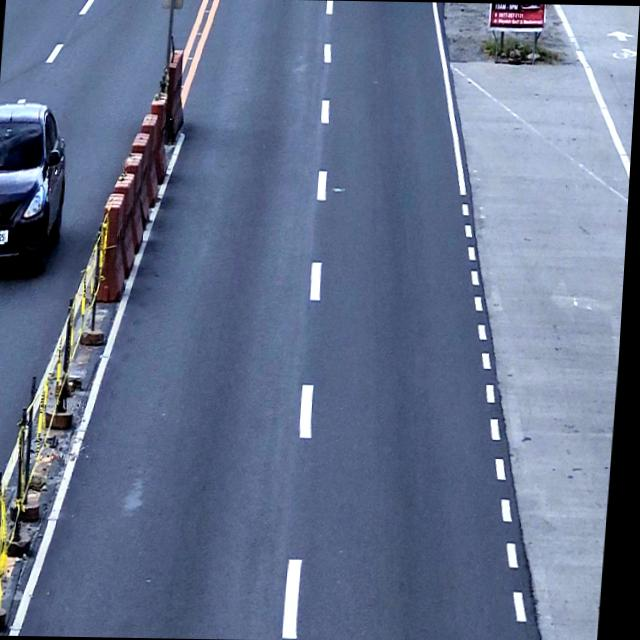Car: (0, 96, 74, 272)
License-Plate: (0, 227, 11, 244)
